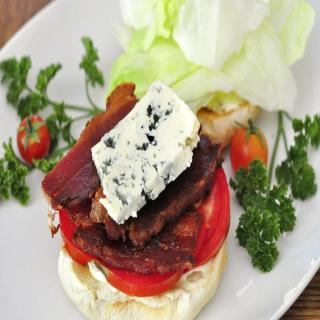tomato: (230, 115, 269, 175), (13, 111, 52, 166)
